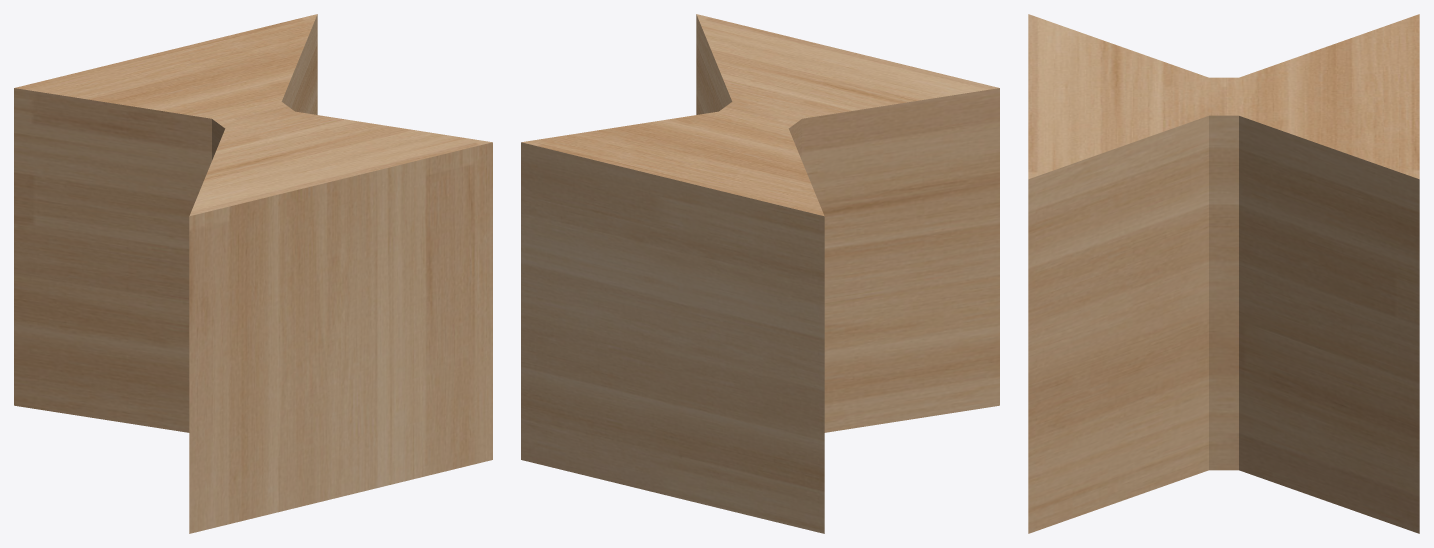
Rendered from thing.obj.
3 renders of one model, left to right at view 1: azimuth 30°, elevation 25°; view 2: azimuth 150°, elevation 25°; view 3: azimuth 270°, elevation 25°, orthographic. The views are drawn at different scales.
Parts seen in each view (by area): view 1: Cube; view 2: Cube; view 3: Cube.
Boxes of the visible parts, x1,y1,x2,y2 form: Cube: (14, 14, 492, 533); Cube: (521, 14, 999, 533); Cube: (1028, 14, 1419, 533).
Bounding box in the file's own units: 2 × 2 × 2.
